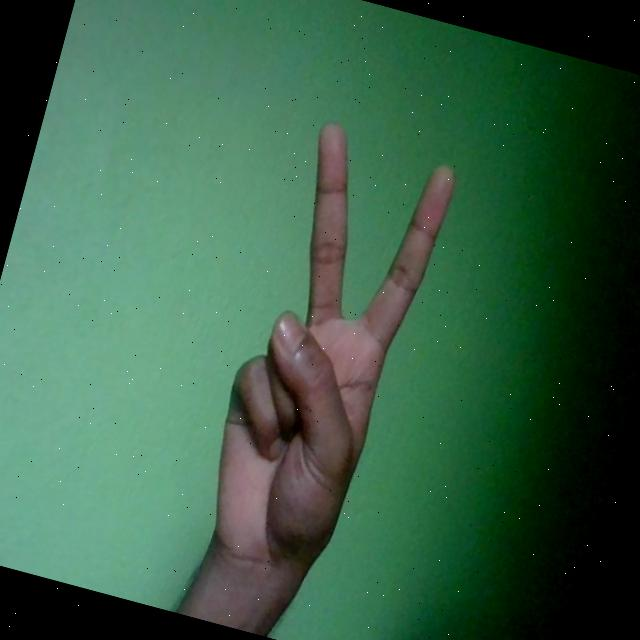Fist: (186, 114, 462, 596)
